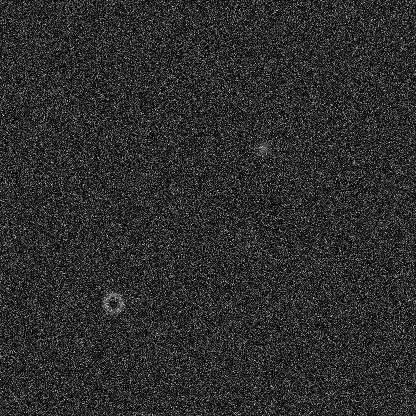Ring: (101, 290, 125, 314), (234, 226, 258, 250)
Spot: (255, 139, 271, 155)
